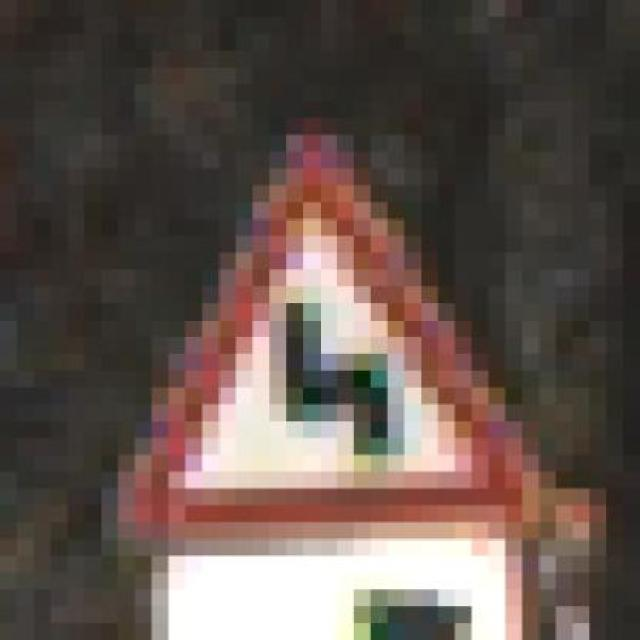Left Zig Zag Traffic: (50, 118, 539, 522)
